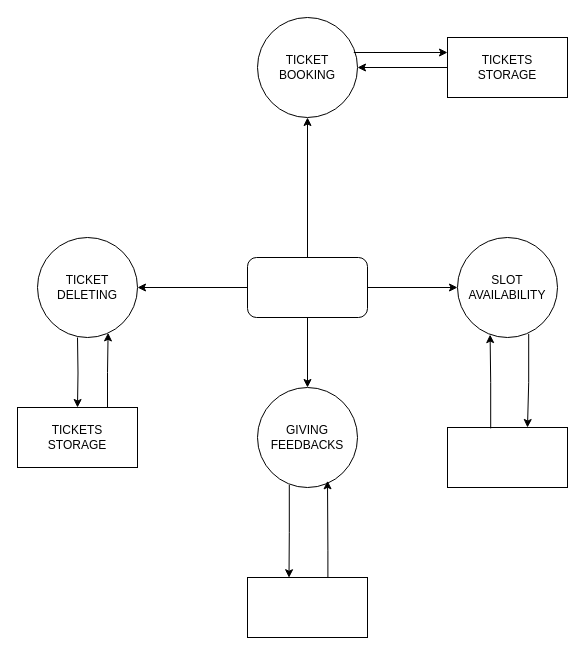
Some shapes in this 585 by 655 pixel diagram are drawn without their labels. The centre of each missing label's shape, as x and y in pixels:
"FEEDBACK STORAGE" goes at point (307, 607).
"SLOTS STORAGE" goes at point (507, 457).
"USERS" goes at point (307, 287).
